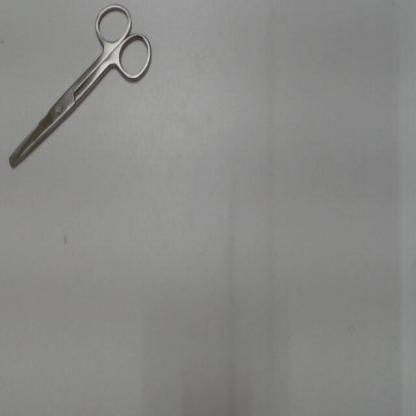Dressing Scissors: (3, 1, 162, 179)
